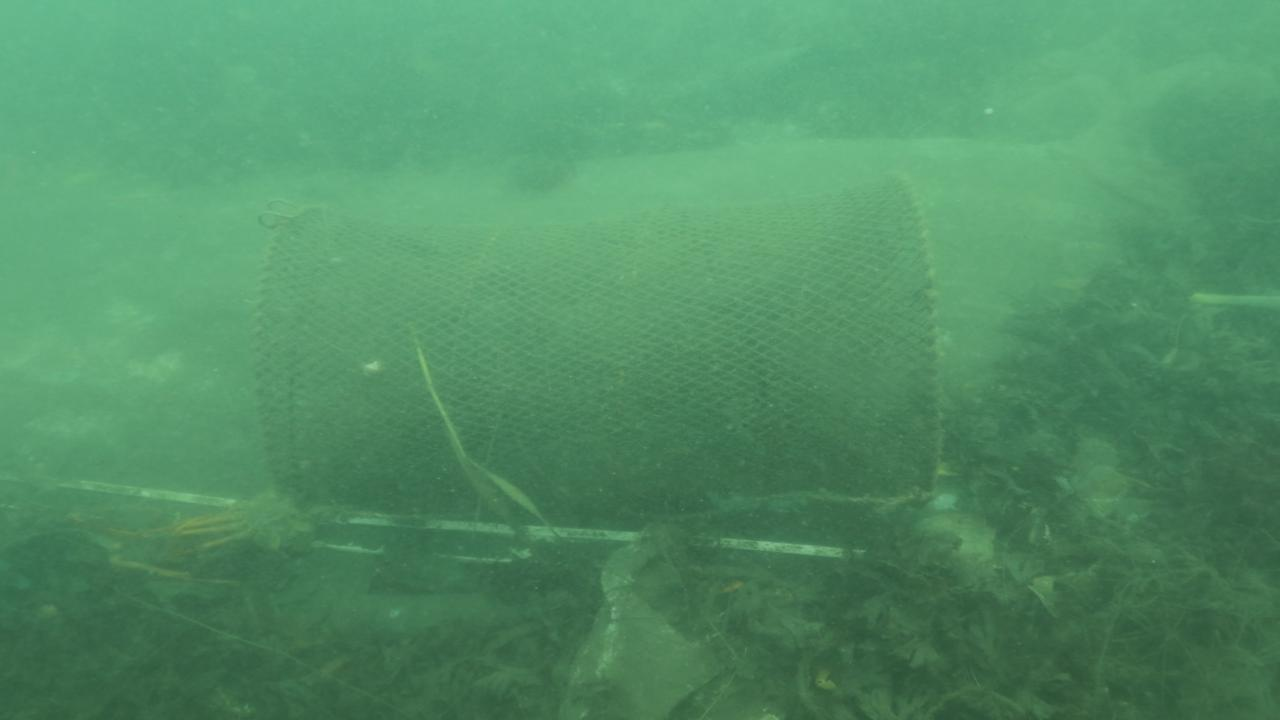spring fish trap: (243, 167, 947, 529)
